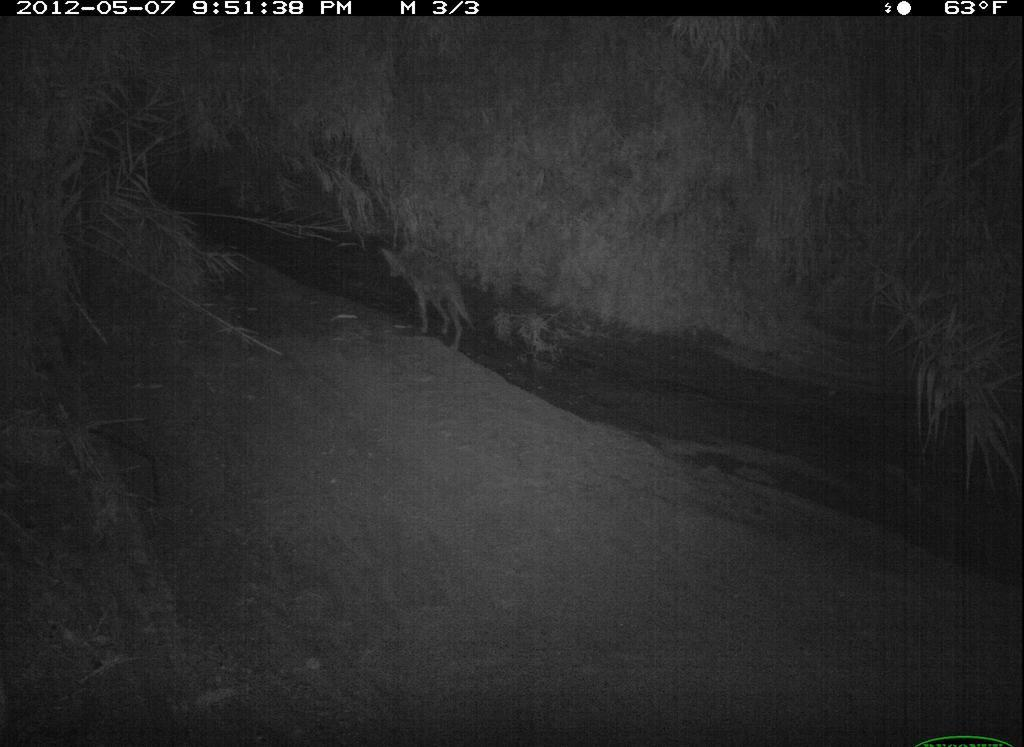coyote: (771, 474, 958, 705)
